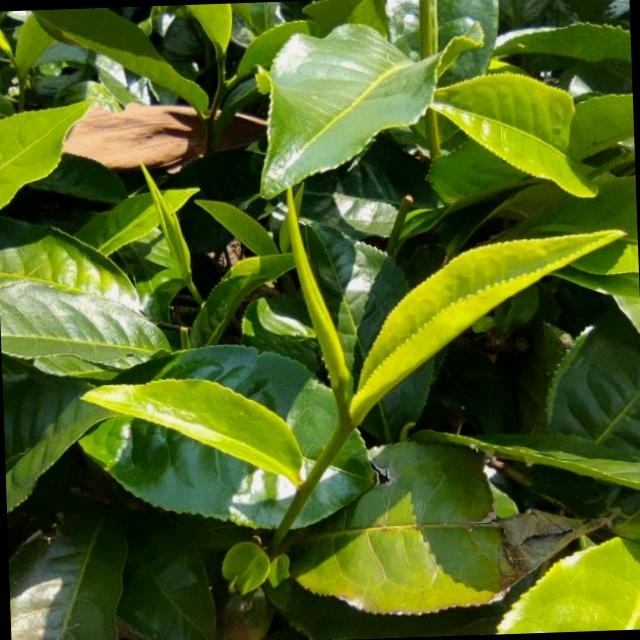Stem: (338, 420, 351, 433)
